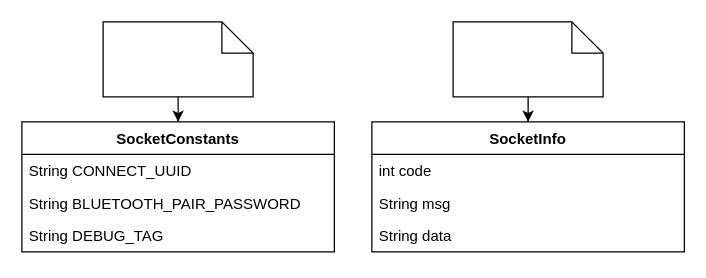
The diagram is 706 pixels wide and 278 high, and some of its shapes have lost their labels. Here are the shapes that lost their labels. From the top down, the box of each, then its label:
(102, 21, 253, 97): socket连接配置类
(452, 21, 603, 97): 蓝牙通讯信息规范
